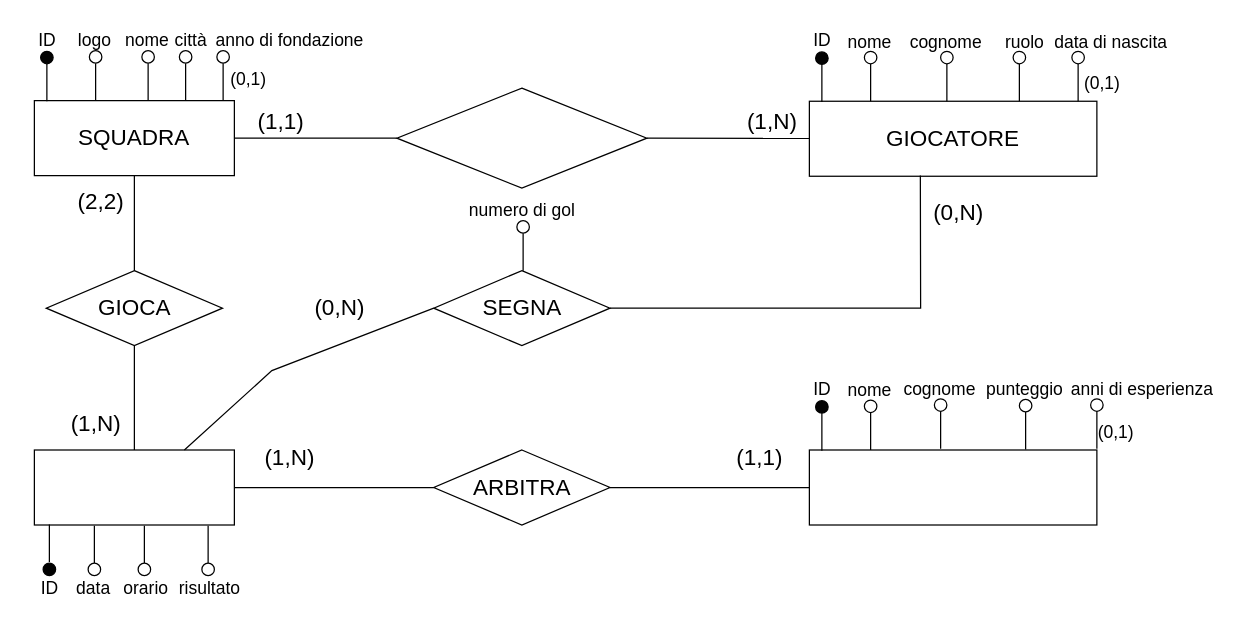
Some shapes in this 1250 by 629 pixel diagram are drawn without their labels. The shapes that lost their labels are listed below. From the top down, each one's centre as x and y in pixels, then its label:
At [521,137]: "APPARTIENE".
At [133,487]: "PARTITA".
At [952,487]: "ARBITRO".
